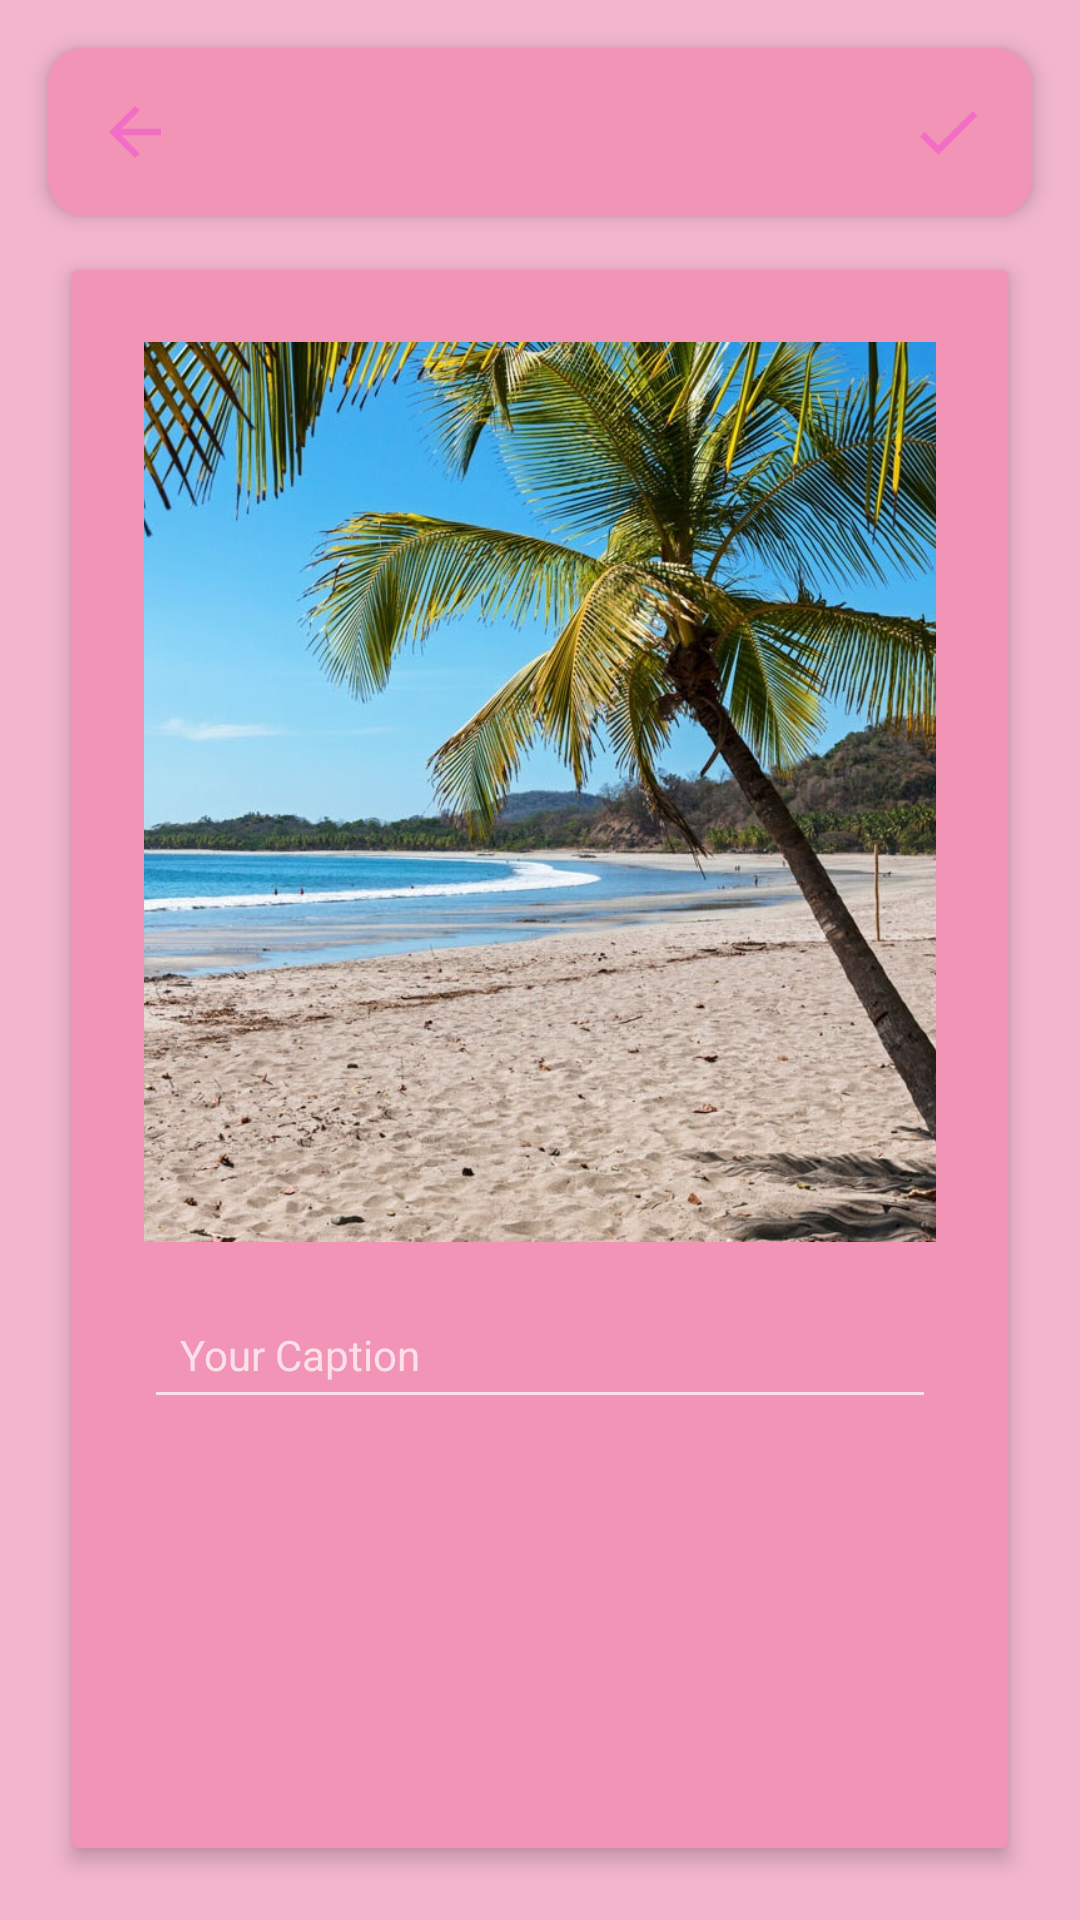

Where to tap for icons on this 1080px x 1920px app screen, as [x,y]:
back: [135,132]
check: [949,133]
